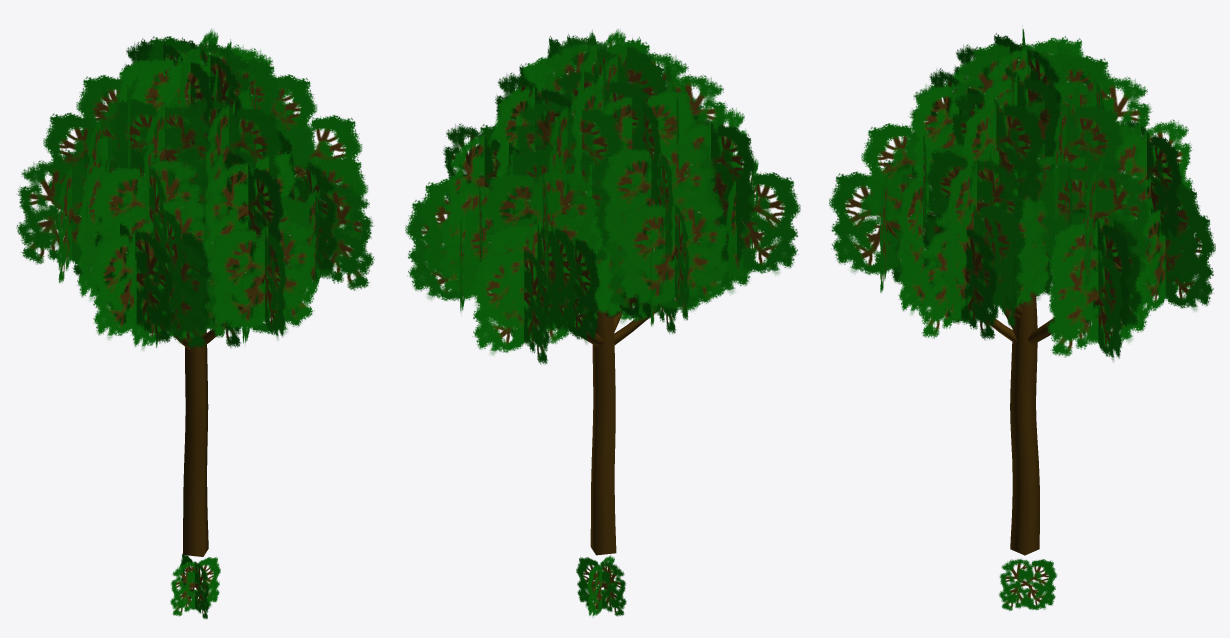
Rendered from tree_1.glb.
3 renders of one model, left to right at view 1: azimuth 30°, elevation 25°; view 2: azimuth 150°, elevation 25°; view 3: azimuth 270°, elevation 25°, orthographic.
Visible parts, largest first — view 1: GN Instance (×29), Tree, leaves; view 2: GN Instance (×31), Tree, leaves; view 3: GN Instance (×29), Tree, leaves.
Boxes of the visible parts, left/top/right/bottom form: GN Instance (×29): left=16, top=29, right=374, bottom=350; Tree: left=72, top=141, right=301, bottom=556; leaves: left=170, top=553, right=220, bottom=619; GN Instance (×31): left=405, top=29, right=800, bottom=364; Tree: left=481, top=126, right=743, bottom=555; leaves: left=576, top=555, right=626, bottom=617; GN Instance (×29): left=829, top=25, right=1215, bottom=361; Tree: left=887, top=125, right=1166, bottom=555; leaves: left=999, top=558, right=1057, bottom=610.
Bounding box in the file's own units: 5.78 × 10.57 × 6.5.
Materials: 2 (1 with a texture image).
